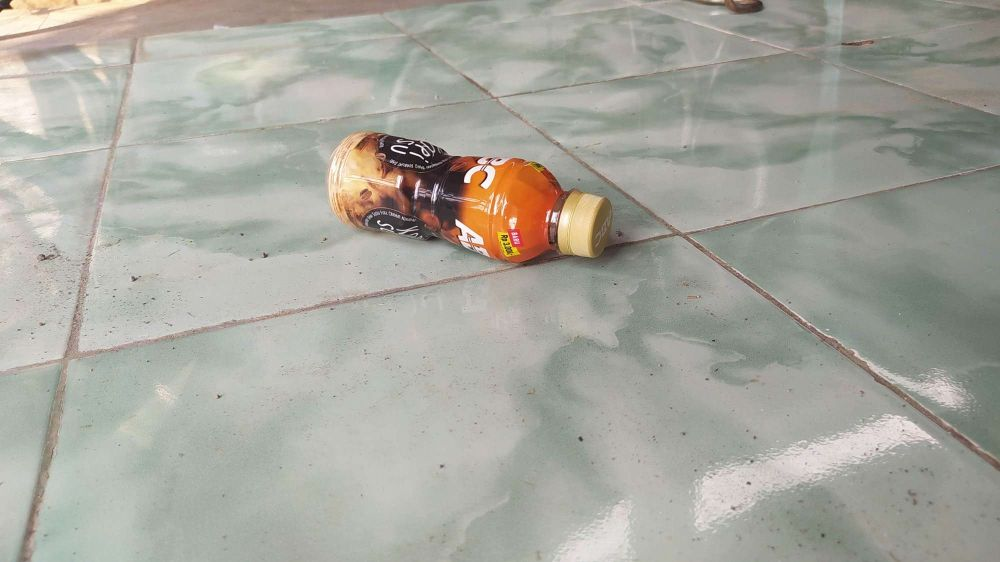botol: (311, 115, 623, 275)
